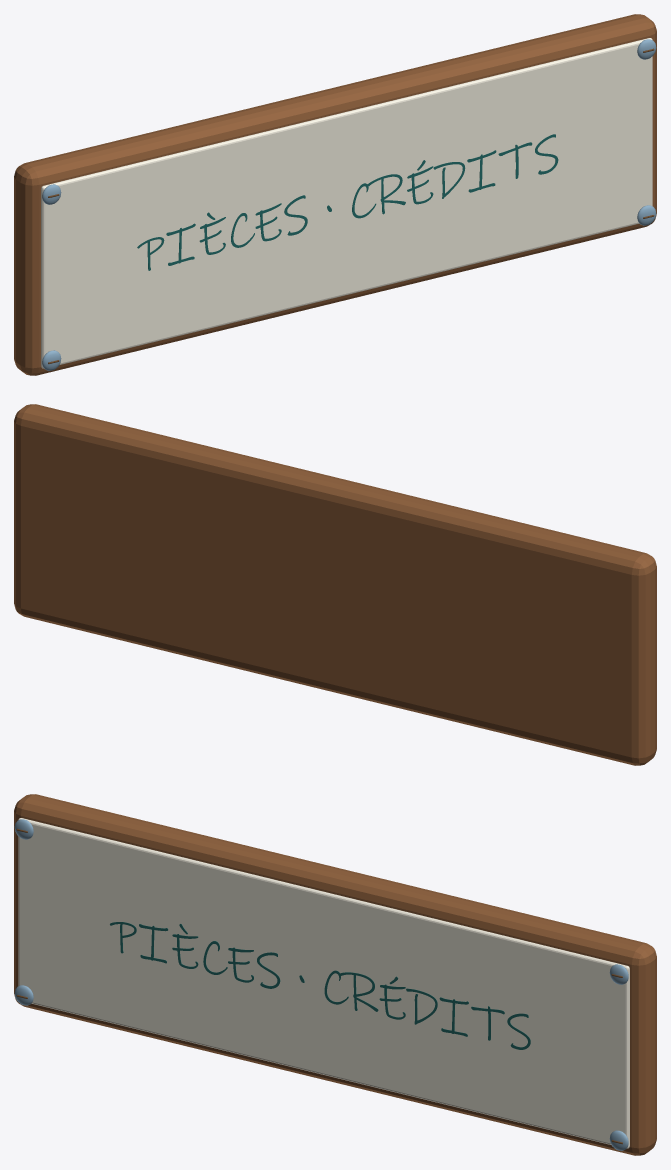
File: payments_sign.glb
3 views of the same model, one above another, from view 1: azimuth 30°, elevation 25°; view 2: azimuth 150°, elevation 25°; view 3: azimuth 330°, elevation 25° (orthographic).
Parts seen in each view (by area): view 1: Sign_cream_face, Sign_timber, Flat_sign; view 2: Sign_timber; view 3: Sign_cream_face, Sign_timber, Flat_sign.
Boxes of the visible parts, x1,y1,x2,y2 form: Sign_cream_face: (41, 38, 652, 368); Sign_timber: (14, 14, 656, 375); Flat_sign: (137, 134, 558, 270); Sign_timber: (14, 404, 656, 765); Sign_cream_face: (18, 818, 629, 1148); Sign_timber: (14, 794, 656, 1155); Flat_sign: (110, 922, 530, 1049).
Bounding box in the file's own units: 0.8 × 0.25 × 0.0554.
